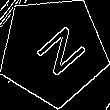N_SW: (22, 19, 85, 82)
